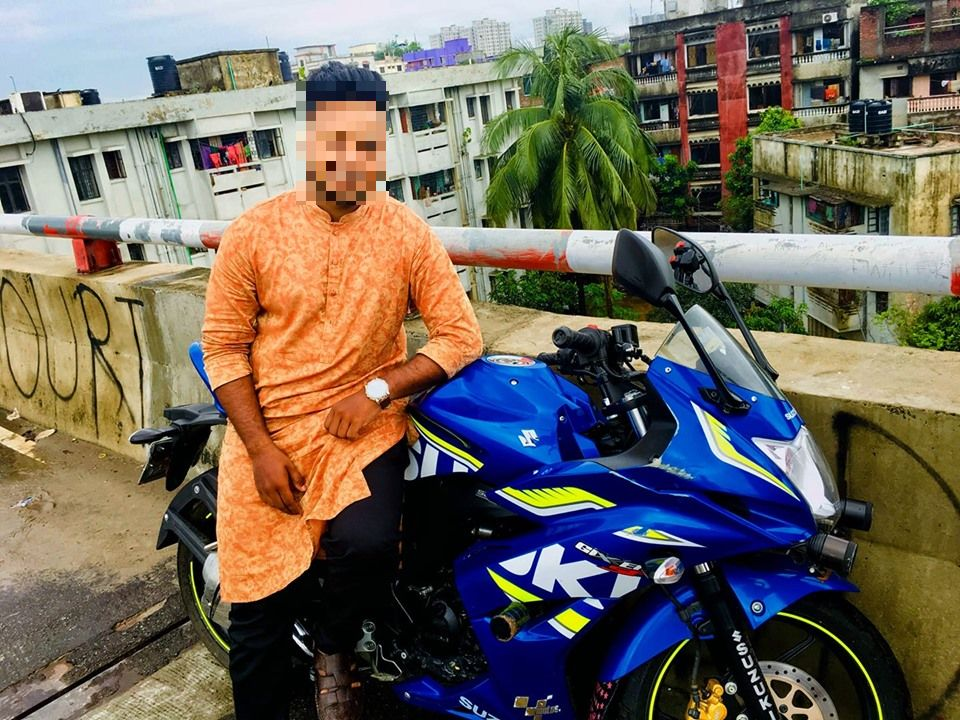bike: (128, 223, 915, 720)
